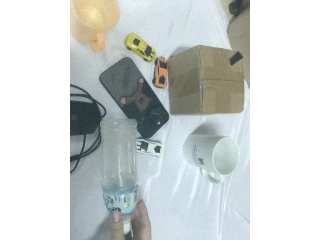bottle: (99, 120, 142, 239)
box: (168, 45, 245, 115)
cup: (181, 132, 239, 182), (69, 1, 122, 53)
mouse: (70, 99, 104, 133)
phone: (97, 55, 171, 139)
toy_car: (124, 32, 157, 63), (152, 56, 169, 88), (134, 138, 163, 156)
